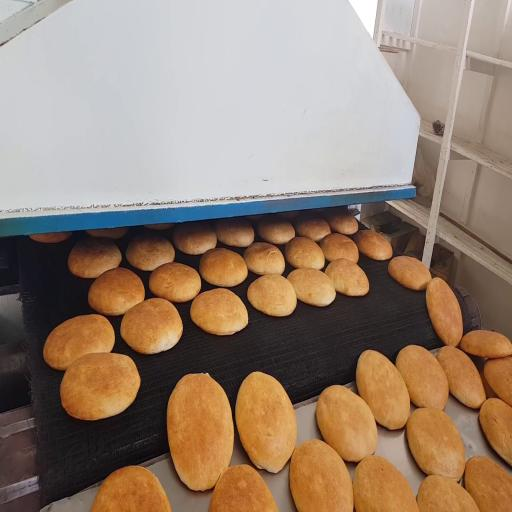bread: (167, 374, 233, 490), (235, 372, 297, 473), (60, 353, 140, 420), (316, 385, 377, 461), (290, 439, 353, 511), (356, 350, 410, 429), (407, 408, 465, 481), (43, 315, 114, 370), (353, 456, 418, 511), (91, 467, 171, 511), (396, 345, 449, 410), (121, 298, 182, 354), (210, 465, 277, 511), (437, 347, 486, 408), (190, 288, 248, 335), (88, 268, 144, 316), (426, 277, 462, 346), (465, 457, 511, 511), (479, 398, 511, 466), (418, 476, 479, 511), (68, 238, 121, 278), (149, 263, 201, 302), (247, 275, 296, 316), (199, 248, 247, 287), (288, 268, 335, 306), (126, 236, 174, 271), (325, 259, 369, 296), (388, 256, 431, 290), (460, 330, 511, 358), (173, 222, 216, 255), (484, 357, 511, 406), (243, 243, 285, 274), (285, 237, 324, 269), (320, 233, 358, 263), (215, 218, 254, 247), (355, 230, 392, 260), (257, 217, 295, 244), (296, 217, 330, 241), (326, 211, 358, 234), (29, 232, 72, 244), (86, 228, 128, 239), (145, 223, 174, 230), (278, 211, 299, 219), (247, 214, 263, 222)
